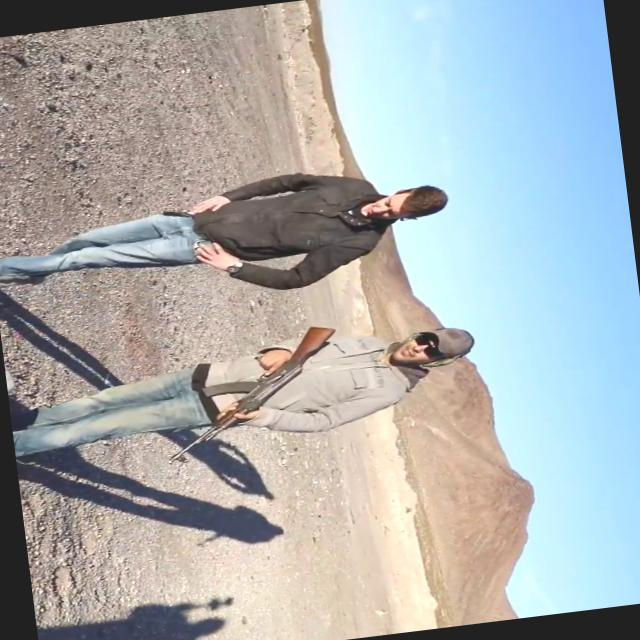long weapon: (152, 318, 358, 474)
